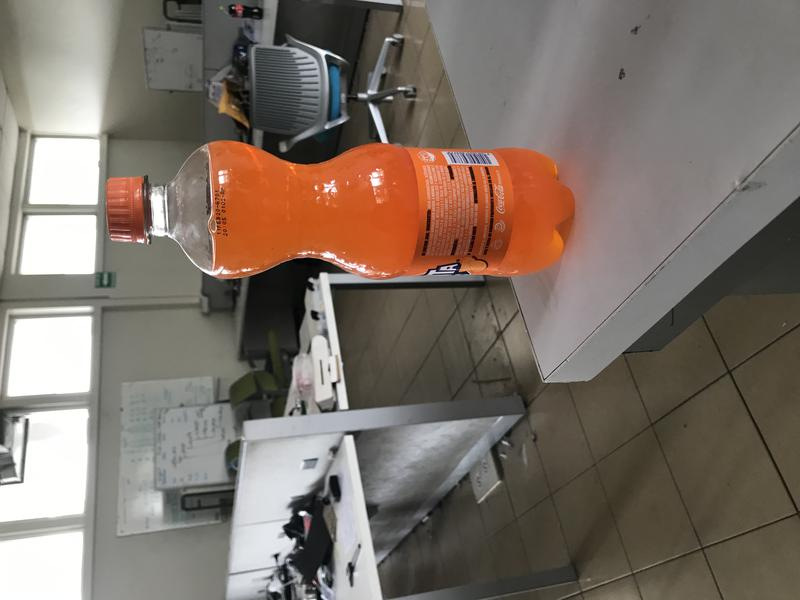fanta: (105, 141, 572, 281)
